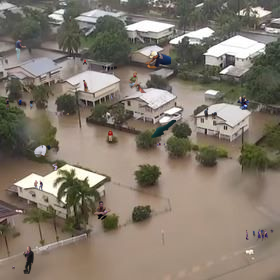Human: (145, 51, 171, 70), (151, 120, 176, 138), (128, 71, 147, 93), (246, 228, 274, 242), (5, 98, 36, 110), (93, 201, 111, 220), (23, 246, 34, 274), (34, 145, 51, 161), (15, 39, 27, 60), (137, 38, 161, 48), (237, 95, 251, 110), (204, 108, 217, 120), (150, 139, 165, 147), (34, 180, 43, 191), (101, 65, 117, 71), (83, 80, 90, 92), (108, 129, 113, 143), (121, 45, 135, 49), (52, 162, 58, 171), (69, 15, 72, 23), (83, 59, 87, 65), (12, 266, 15, 271), (14, 178, 17, 182), (66, 113, 69, 117), (274, 115, 276, 120), (111, 95, 113, 100)
